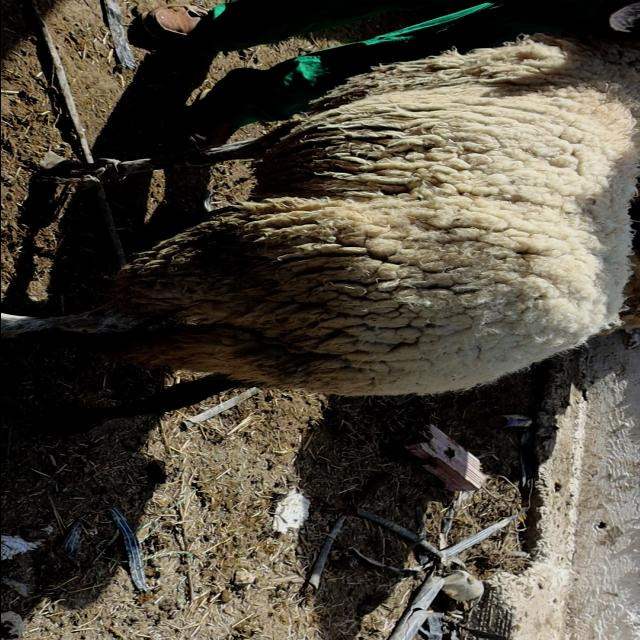Score_3: (1, 34, 640, 433)
